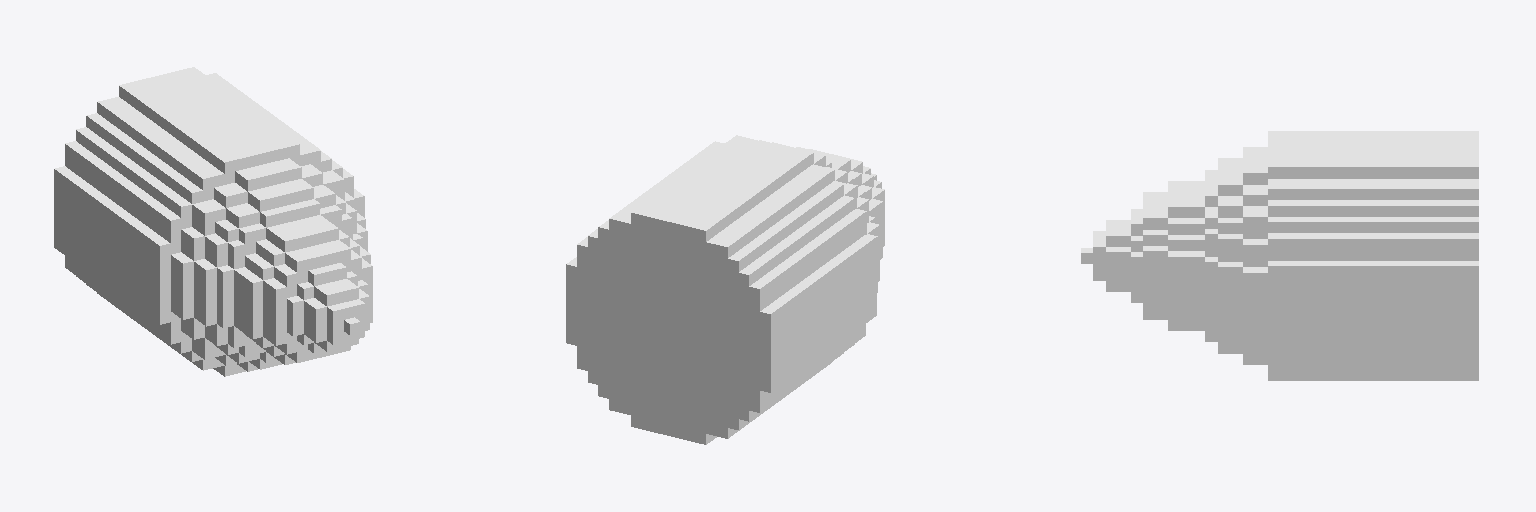
Rendered from SBullet.obj.
The picture shows the model from 3 angles: view 1: azimuth 30°, elevation 25°; view 2: azimuth 150°, elevation 25°; view 3: azimuth 270°, elevation 25°; orthographic projection.
Parts seen in each view (by area): view 1: object 1; view 2: object 1; view 3: object 1.
Part boxes in pixels (x1,y1,x2,y2): object 1: (54,67,372,376); object 1: (566,135,884,444); object 1: (1081,131,1478,380).
Size of the model in its own units: 1.9 by 1.9 by 3.2.